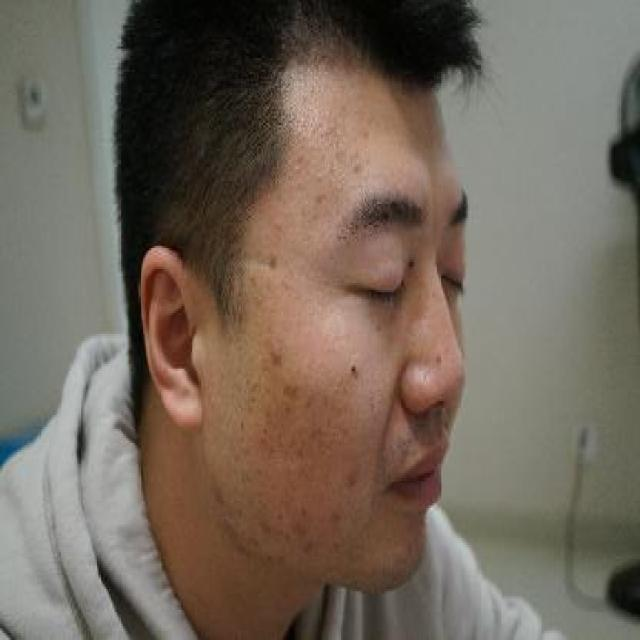blackheads: (344, 354, 364, 390)
dark spot: (255, 419, 283, 464), (300, 534, 320, 564), (279, 381, 303, 404), (258, 512, 272, 542), (323, 508, 342, 529), (294, 498, 309, 522)
papules: (265, 339, 286, 371), (344, 459, 362, 496)
whiteheads: (314, 167, 324, 183), (334, 178, 344, 194), (363, 153, 374, 165), (305, 150, 312, 164), (329, 162, 337, 174), (303, 165, 311, 176), (292, 165, 298, 176)
